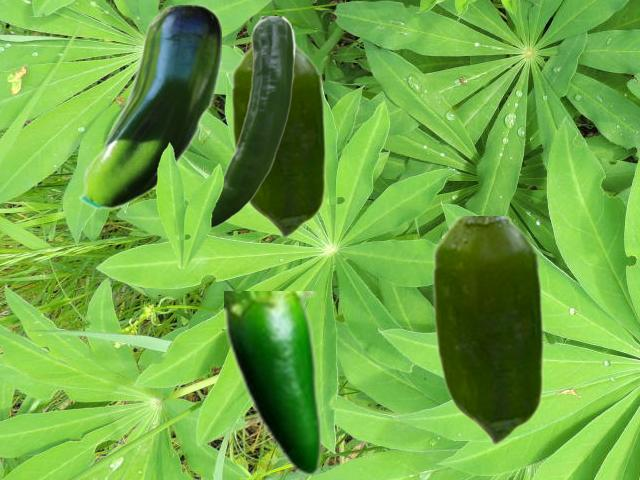green_chili: (77, 5, 220, 209), (161, 16, 295, 228), (431, 216, 543, 444), (230, 43, 325, 237), (224, 291, 322, 476)
